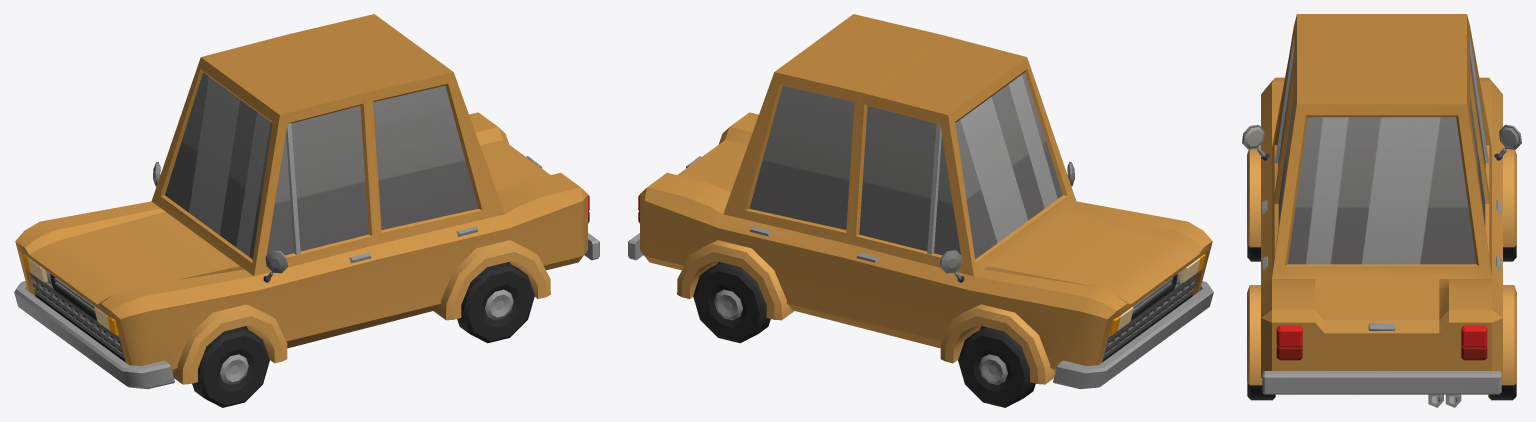
The model's file is Car_4_1_L.gltf.
3 renders of one model, left to right at view 1: azimuth 30°, elevation 25°; view 2: azimuth 150°, elevation 25°; view 3: azimuth 270°, elevation 25°, orthographic. The views are drawn at different scales.
Visible parts, largest first — view 1: Car_4_1_L, RL, FL; view 2: Car_4_1_L, RR, FR; view 3: Car_4_1_L, RL, RR.
Boxes of the visible parts, x1=… form: Car_4_1_L: x1=14, y1=14, x2=599, y2=389; RL: x1=457, y1=262, x2=534, y2=343; FL: x1=192, y1=327, x2=269, y2=407; Car_4_1_L: x1=628, y1=14, x2=1213, y2=389; RR: x1=693, y1=262, x2=770, y2=343; FR: x1=958, y1=327, x2=1035, y2=407; Car_4_1_L: x1=1242, y1=14, x2=1521, y2=407; RL: x1=1247, y1=383, x2=1275, y2=400; RR: x1=1488, y1=383, x2=1516, y2=400.
Size of the model in its own units: 3.53 by 1.81 by 1.65.
4 materials, 4 textured.
